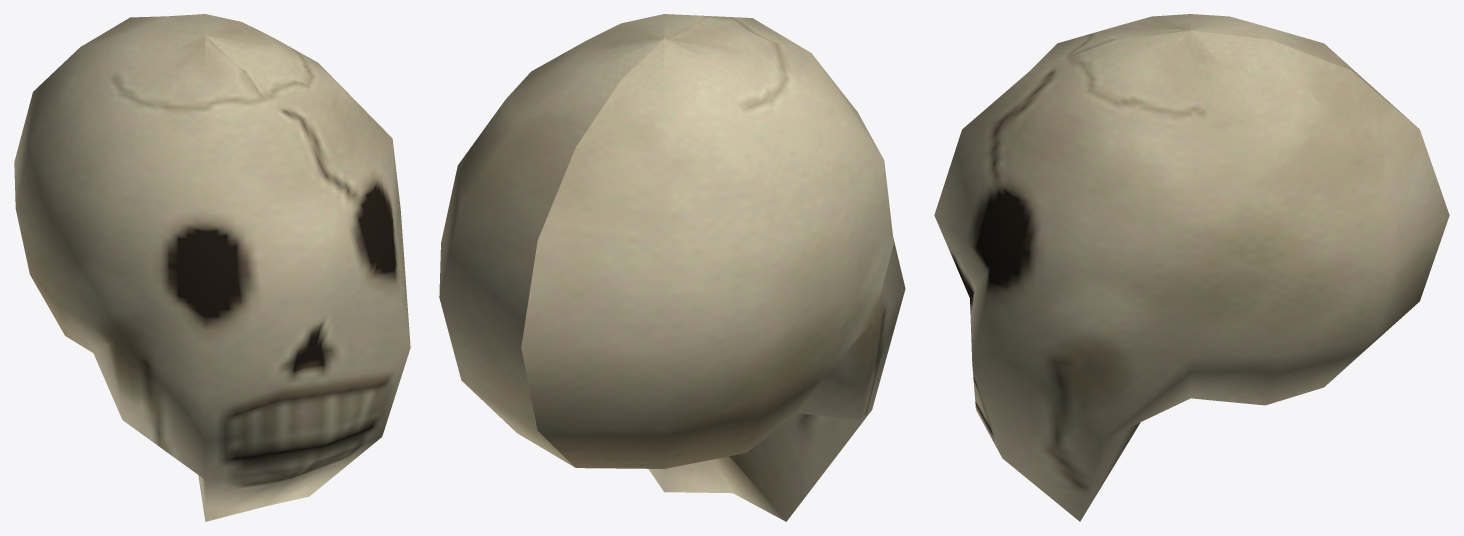
Rendered from skull.obj.
The picture shows the model from 3 angles, left to right: view 1: azimuth 30°, elevation 25°; view 2: azimuth 150°, elevation 25°; view 3: azimuth 270°, elevation 25°; orthographic projection. The views are drawn at different scales.
Parts seen in each view (by area): view 1: skull; view 2: skull; view 3: skull.
Boxes of the visible parts, left/top/right/bottom form: skull: left=14, top=14, right=410, bottom=521; skull: left=439, top=14, right=905, bottom=521; skull: left=934, top=14, right=1449, bottom=521.
Size of the model in its own units: 0.1385 by 0.186 by 0.1871.
1 material, 1 textured.
